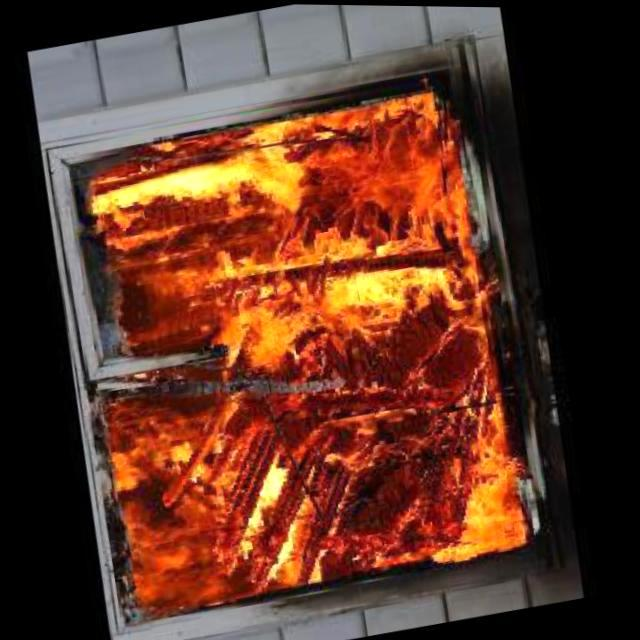fire: (48, 71, 564, 629)
